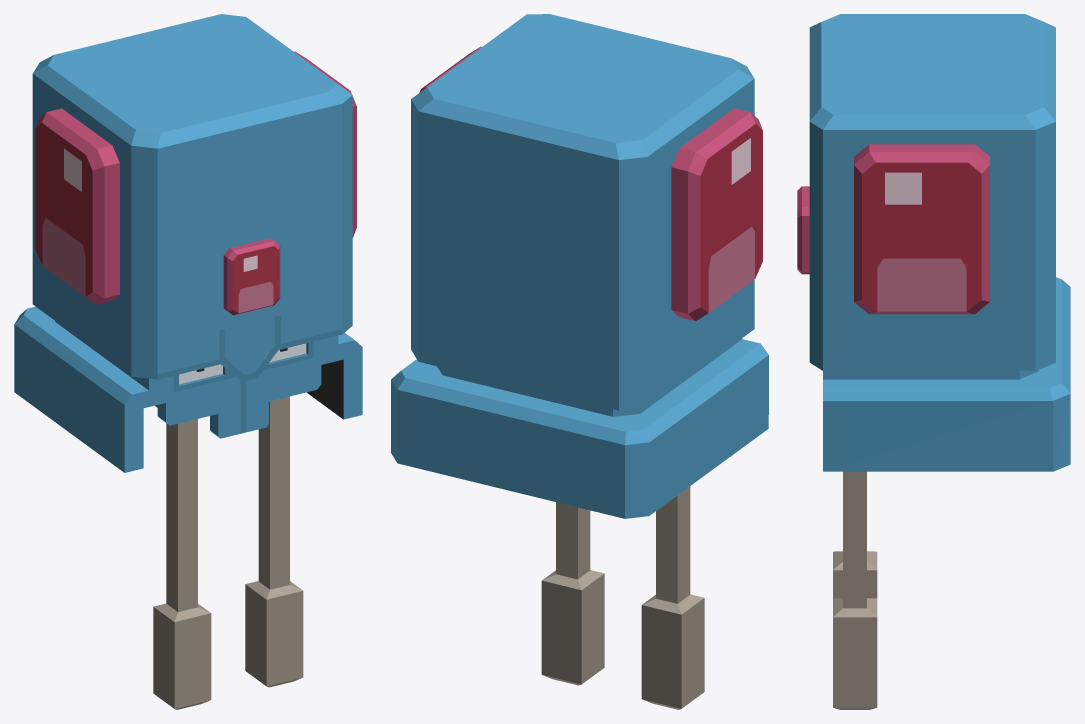
3 renders of one model, left to right at view 1: azimuth 30°, elevation 25°; view 2: azimuth 150°, elevation 25°; view 3: azimuth 270°, elevation 25°, orthographic. The views are drawn at different scales.
Visible parts, largest first — view 1: 0072_tentacool; view 2: 0072_tentacool; view 3: 0072_tentacool.
Boxes of the visible parts, left/top/right/bottom form: 0072_tentacool: left=14, top=14, right=362, bottom=709; 0072_tentacool: left=391, top=14, right=768, bottom=709; 0072_tentacool: left=797, top=14, right=1070, bottom=709.
Size of the model in its own units: 0.976 by 2.08 by 0.8366.
1 material, 1 textured.
